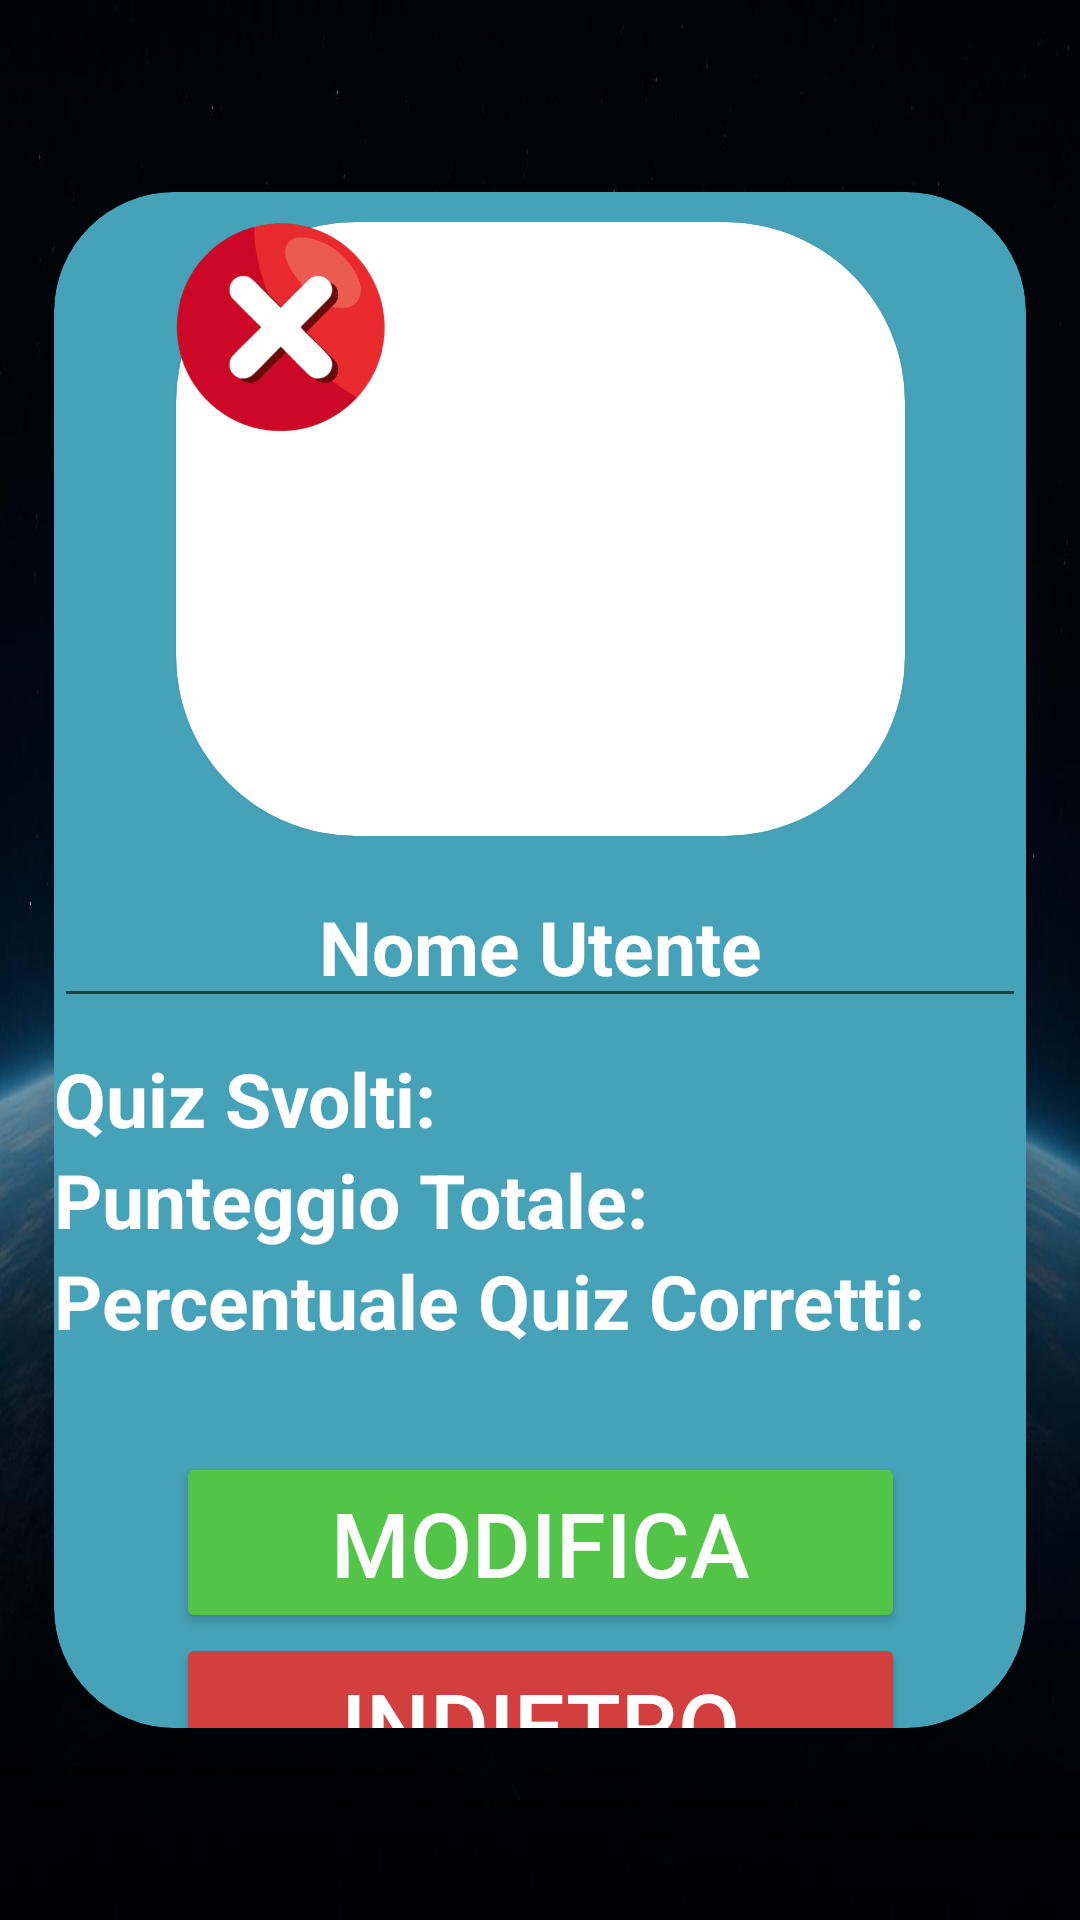

Screen size 1080px x 1920px. Icon name, then its center in pixels as (x,y):
icona rossa: (281,327)
